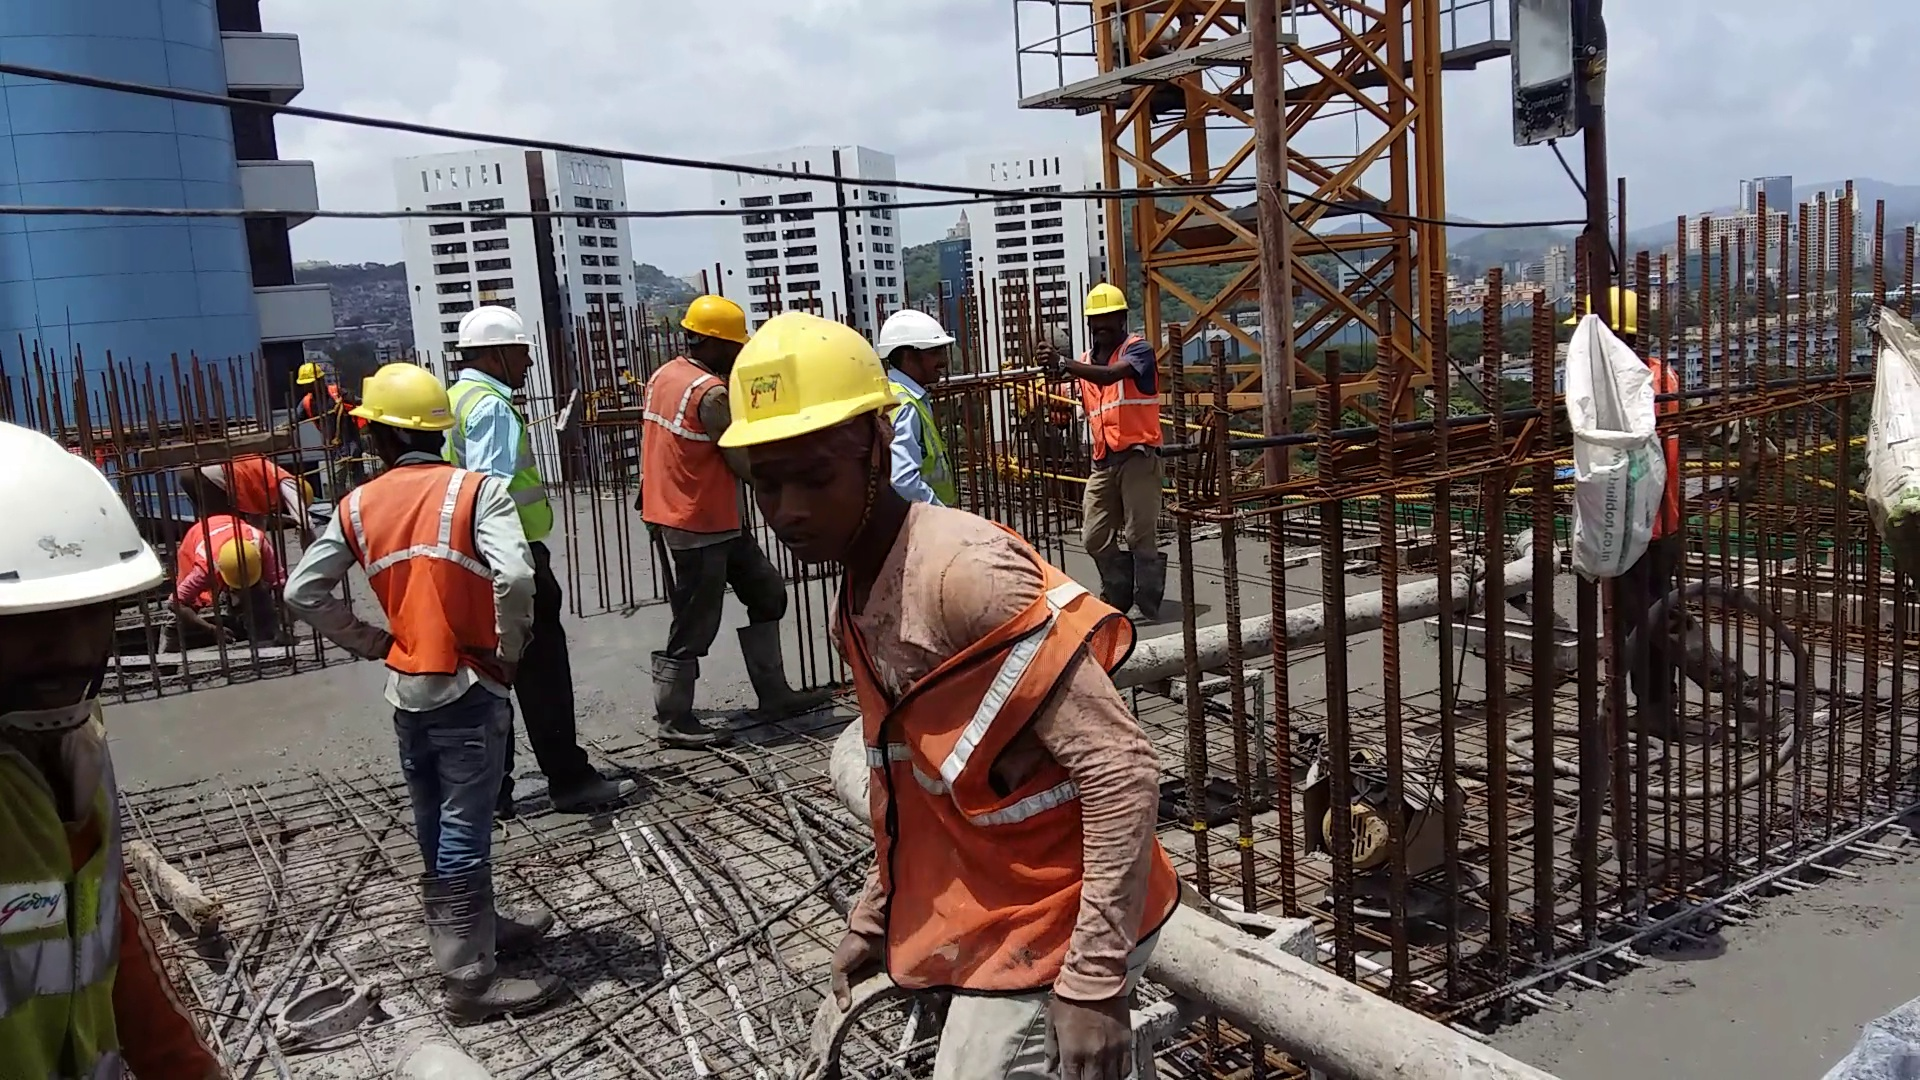SAFE: (770, 323, 1026, 963), (1, 414, 167, 1080), (351, 365, 469, 676), (637, 286, 727, 541), (1067, 276, 1160, 465), (481, 298, 549, 558), (887, 301, 971, 505)
